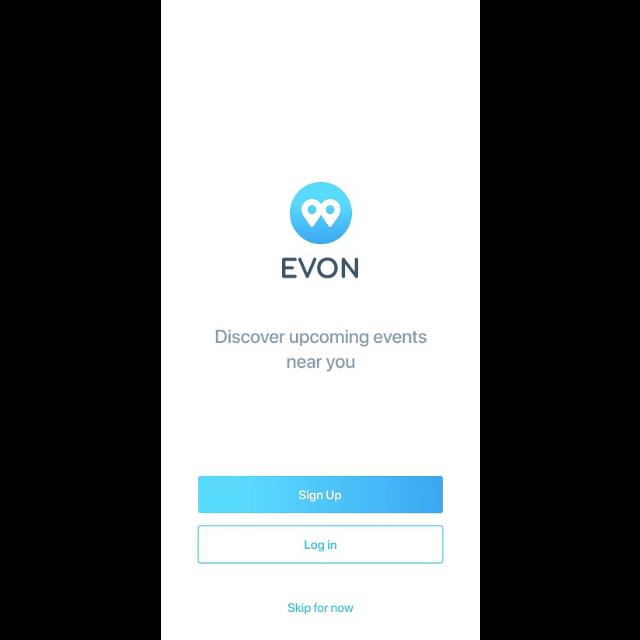image: (290, 182, 352, 244)
text: (215, 330, 427, 372), (282, 257, 358, 279), (287, 602, 353, 616)
textbutton: (198, 524, 444, 564), (199, 476, 443, 514)
